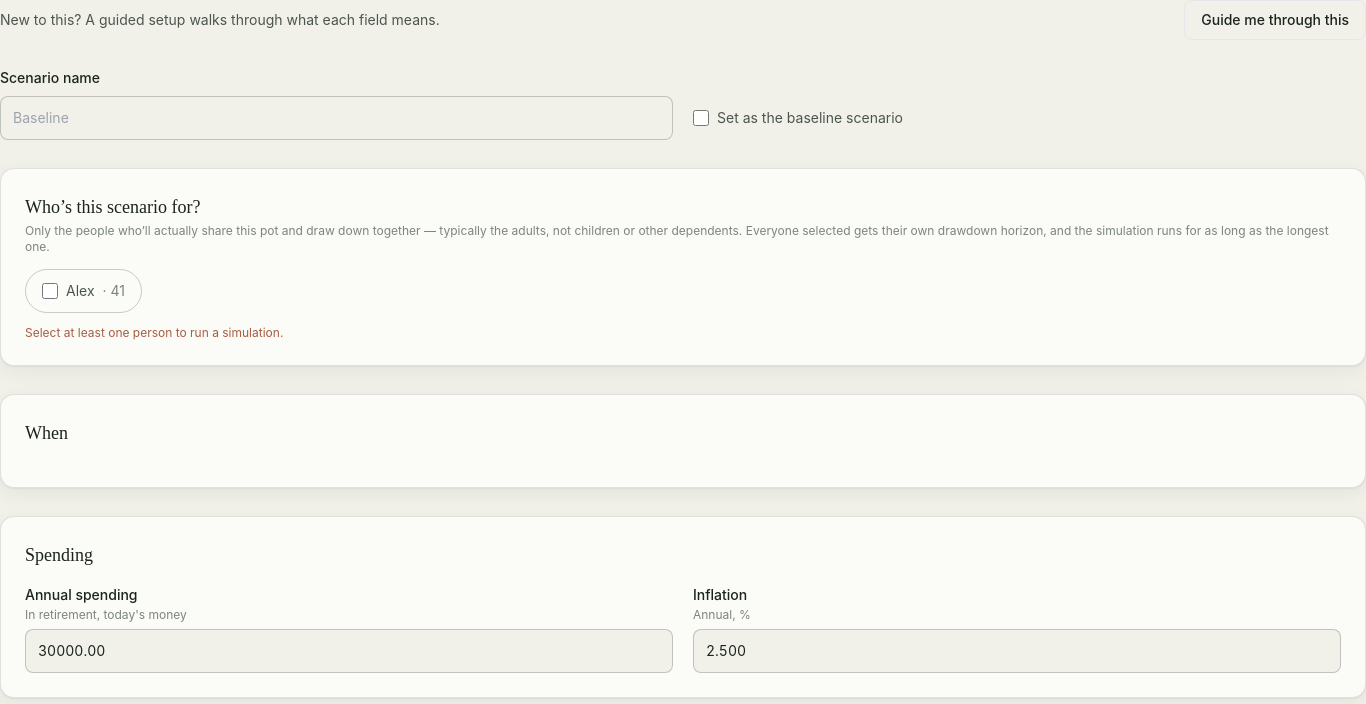
Test: ScenarioEditorForm › shows the exact spec copy inline when retirement age is out of range, on blur
The width and height of the screenshot is (1366, 704).
Click the checkbox labelled "Alex · 41": (50, 291) [42,283,58,299]
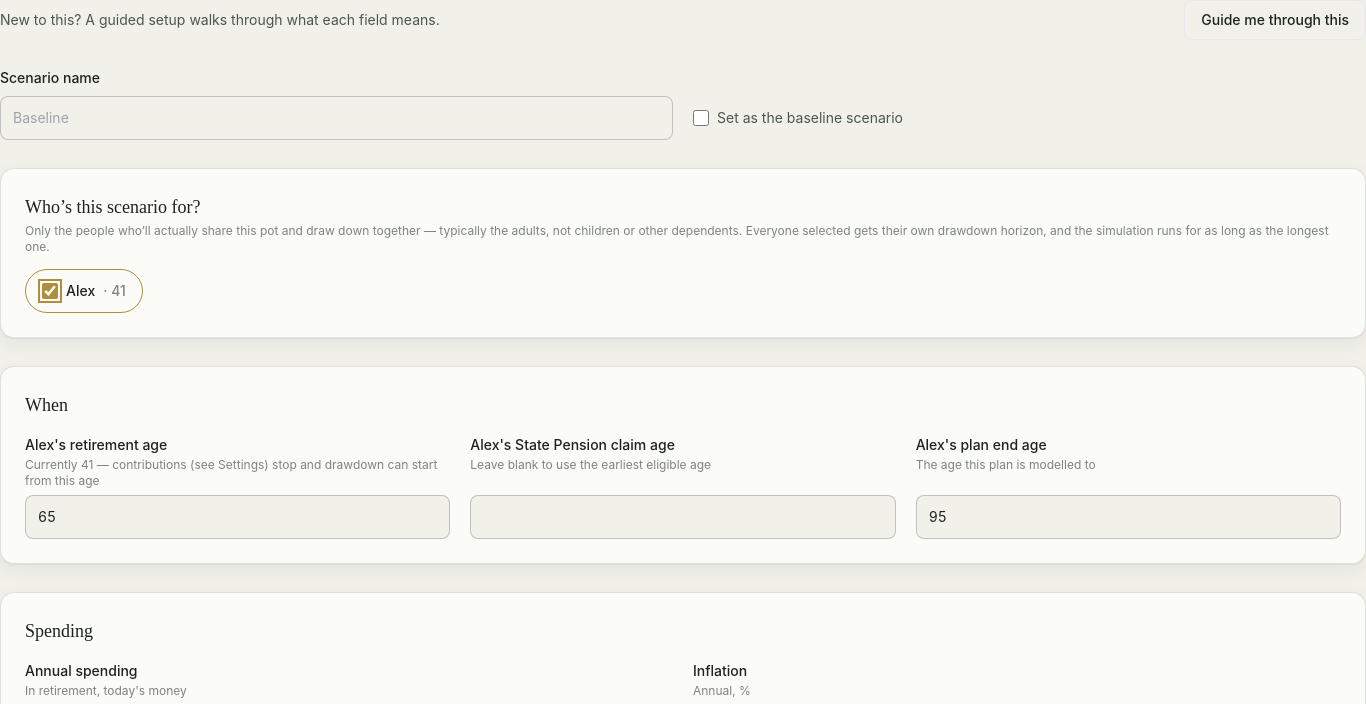
Replace the text in the field labelled "Alex's retirement age" with "10": (238, 517) [25,495,450,539]
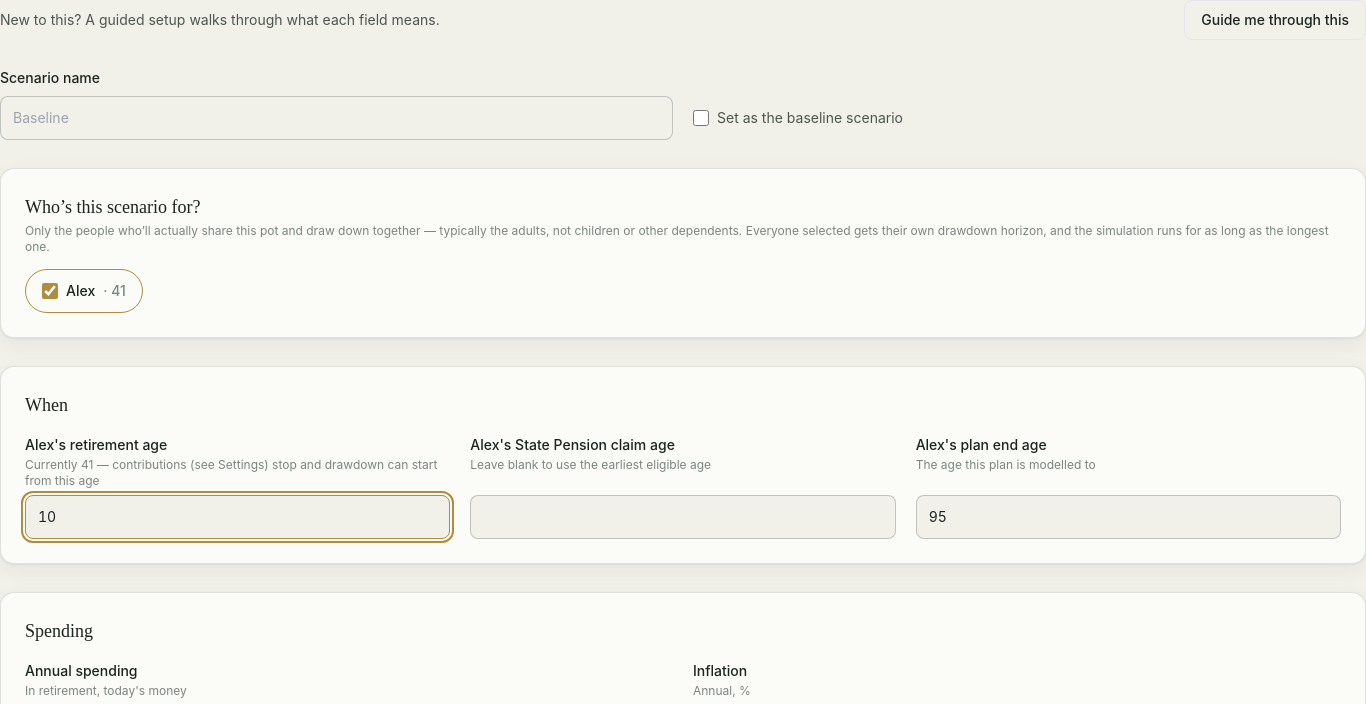
Press Tab
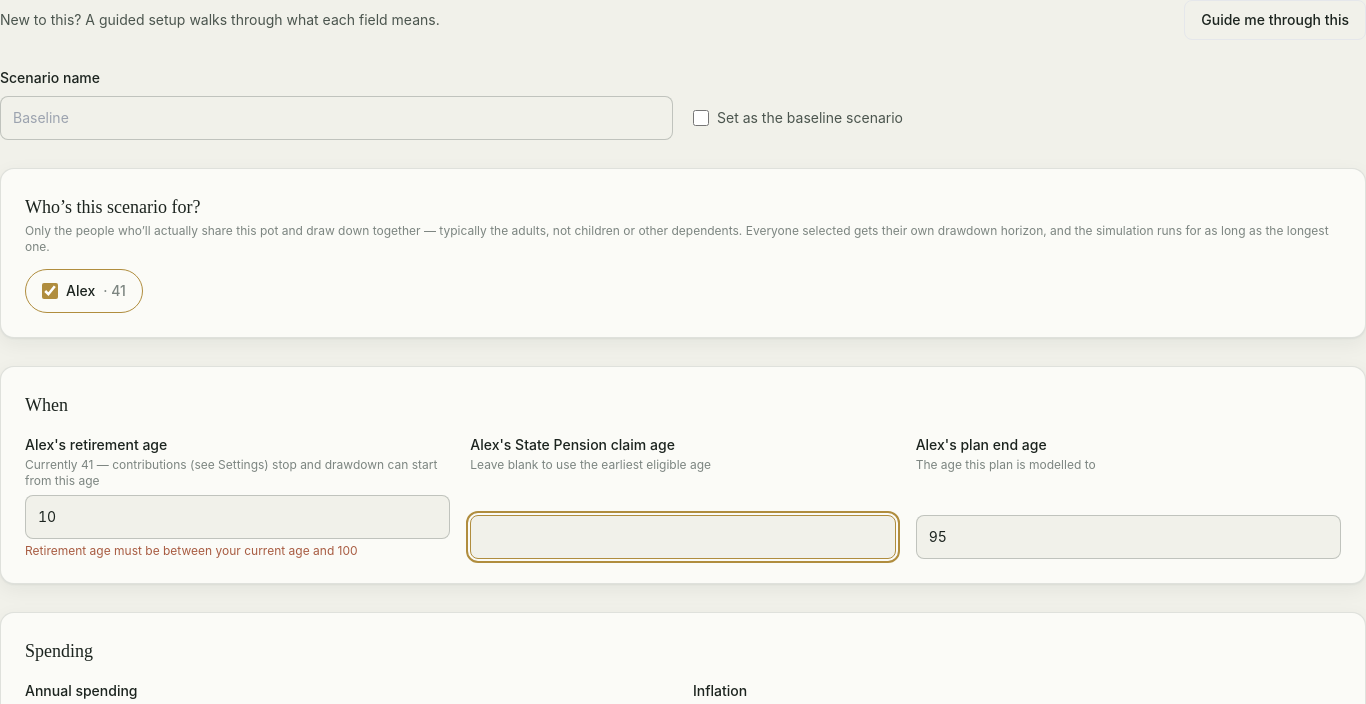
Now the text "Retirement age must be between your current age and 100" is shown, box [25,543,358,558]
